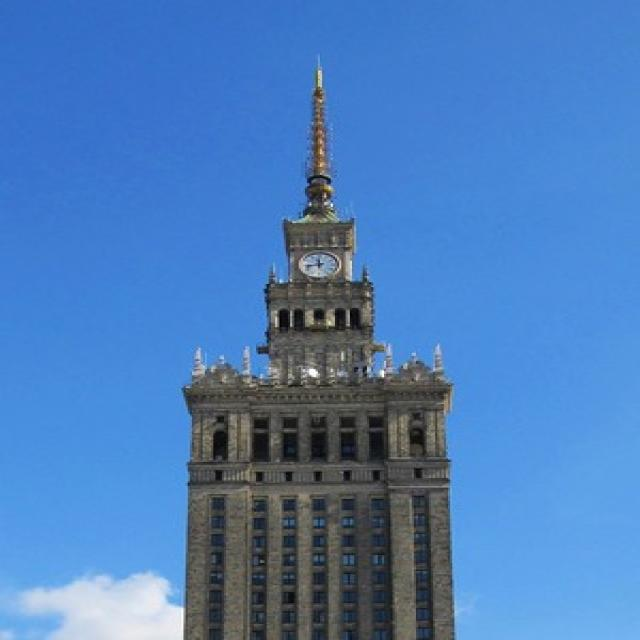building: (175, 205, 463, 637)
